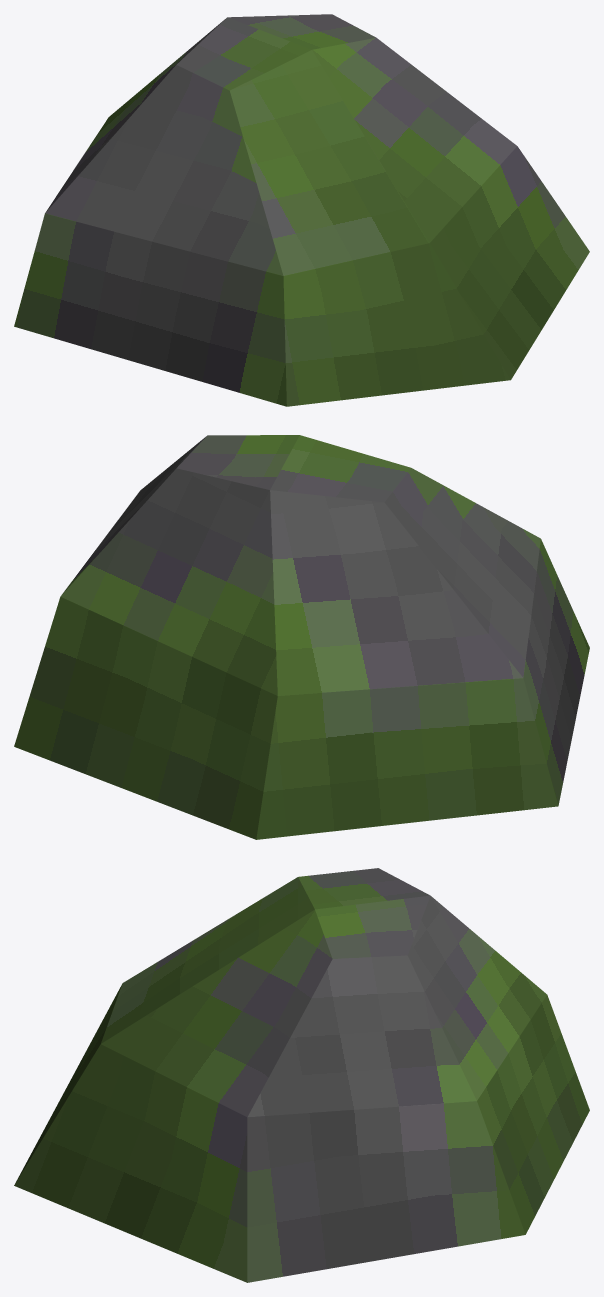
Rendered from Rock_Small_Mossy.fbx.
The picture shows the model from 3 angles, top to bottom: view 1: azimuth 30°, elevation 25°; view 2: azimuth 150°, elevation 25°; view 3: azimuth 270°, elevation 25°; orthographic projection. The views are drawn at different scales.
Visible parts, largest first — view 1: pCylinder3; view 2: pCylinder3; view 3: pCylinder3.
Boxes of the visible parts, x1,y1,x2,y2 form: pCylinder3: (14,14,589,406); pCylinder3: (14,435,589,839); pCylinder3: (14,868,589,1282).
Size of the model in its own units: 30.57 by 13.67 by 28.73.
